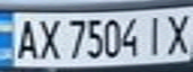0: (103, 16, 124, 60)
4: (121, 15, 145, 58)
5: (84, 16, 106, 60)
7: (63, 16, 87, 60)
A: (9, 15, 42, 61)
I: (142, 12, 169, 57)
X: (160, 10, 193, 55), (33, 15, 63, 61)
